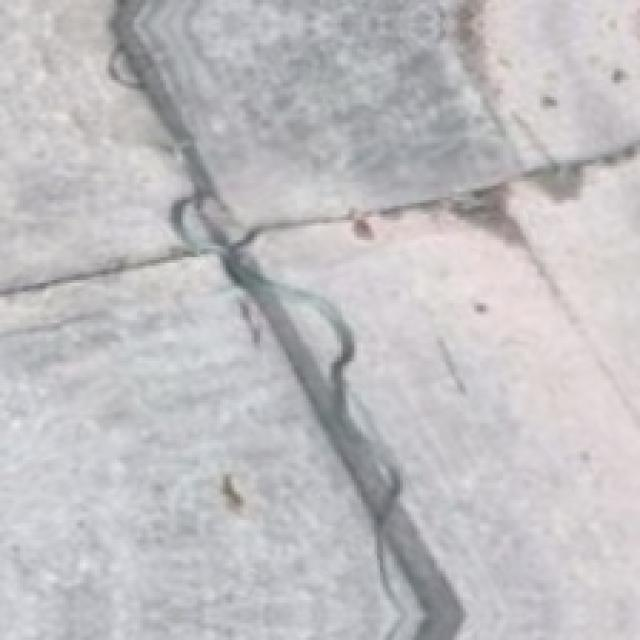paradise tree snake: (114, 0, 637, 637)
